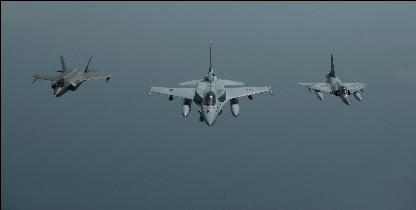F14: (148, 40, 272, 124)
F22: (32, 54, 110, 96)
Mirage2000: (298, 52, 368, 104)
